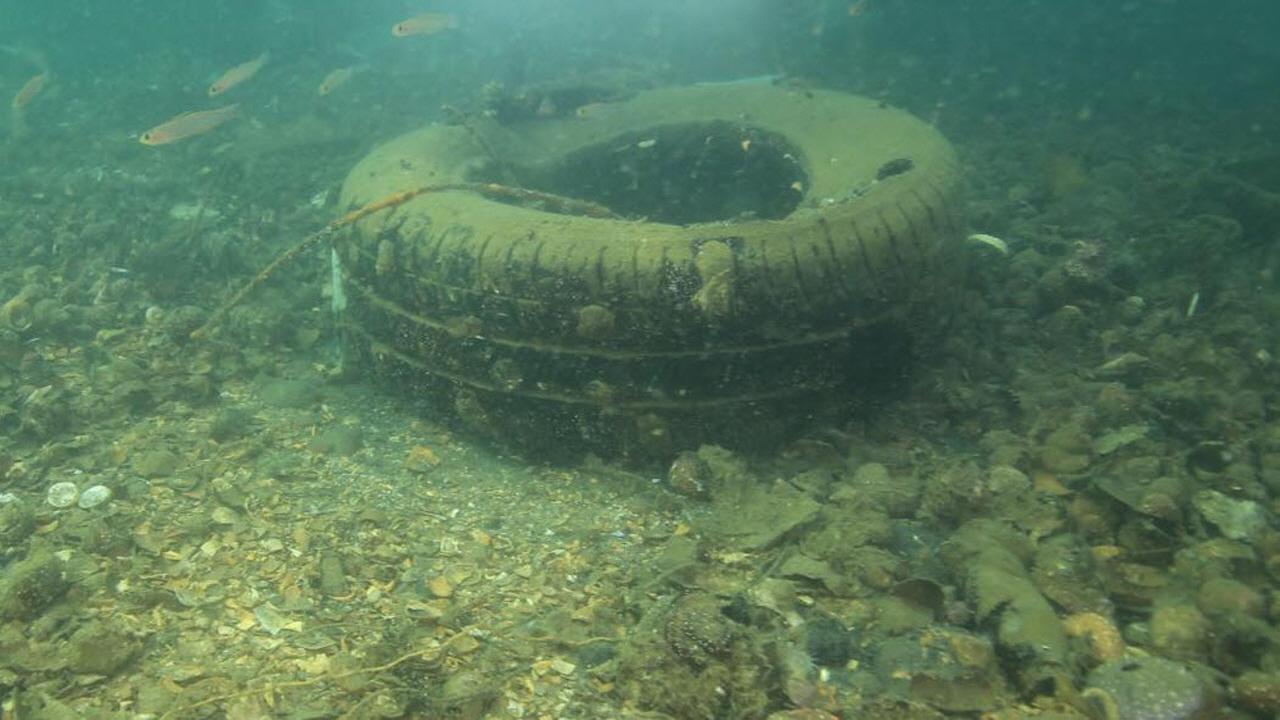tire: (332, 83, 963, 452)
